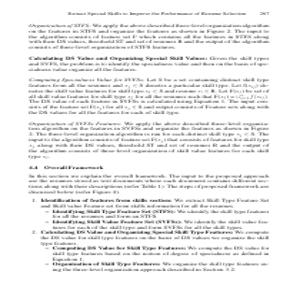text: (27, 7, 274, 279)
